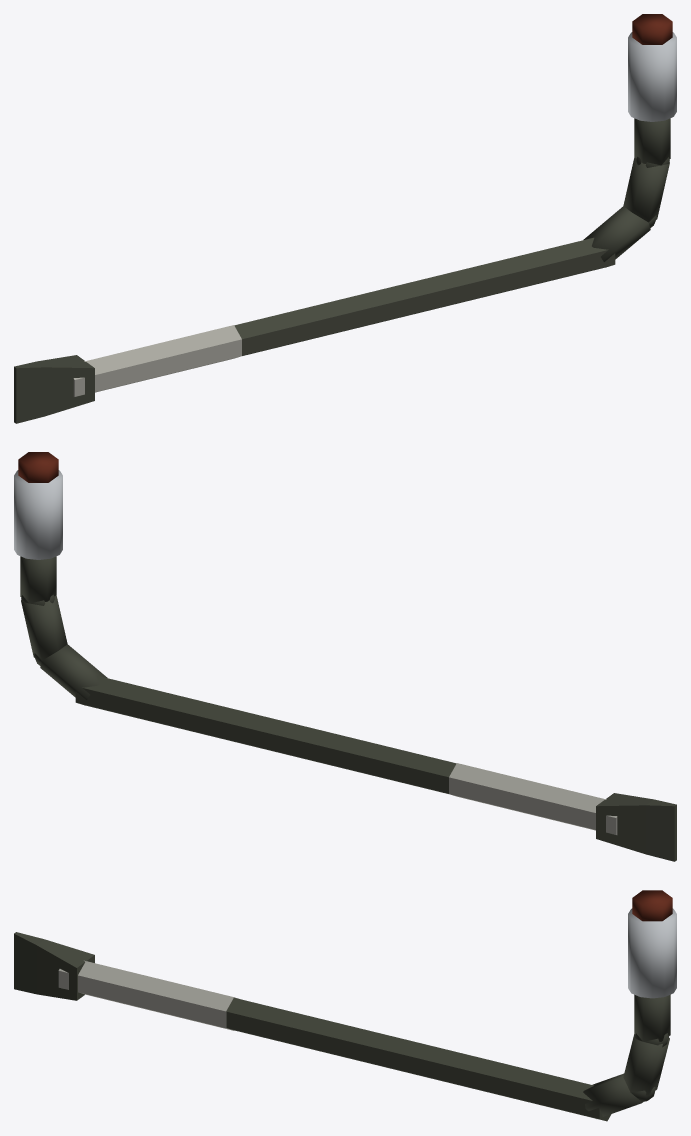
File: item_tire_iron.glb
3 views of the same model, one above another, from view 1: azimuth 30°, elevation 25°; view 2: azimuth 150°, elevation 25°; view 3: azimuth 330°, elevation 25° (orthographic).
Parts seen in each view (by area): view 1: bar, worn, pry, socket, bend_1, bend_0, bend_2, nut; view 2: bar, worn, pry, socket, bend_1, bend_0, bend_2, nut; view 3: bar, worn, socket, pry, bend_1, bend_2, bend_0, nut.
Boxes of the visible parts, x1,y1,x2,y2 form: bar: (234, 237, 615, 355); worn: (73, 325, 241, 396); pry: (14, 355, 94, 423); socket: (628, 32, 676, 121); bend_1: (623, 157, 669, 222); bend_0: (583, 206, 650, 267); bend_2: (634, 118, 670, 165); nut: (632, 14, 672, 44); bar: (75, 675, 456, 793); worn: (449, 763, 617, 834); pry: (596, 793, 676, 861); socket: (14, 470, 62, 559); bend_1: (21, 595, 67, 660); bend_0: (40, 644, 107, 705); bend_2: (20, 556, 56, 603); nut: (18, 452, 58, 482); bar: (226, 997, 611, 1121); worn: (58, 960, 237, 1030); socket: (628, 908, 676, 998); pry: (14, 932, 94, 1000); bend_1: (623, 1034, 669, 1095); bend_2: (634, 994, 670, 1041); bend_0: (583, 1073, 642, 1118); nut: (632, 890, 672, 921).
Size of the model in its own units: 0.5115 by 0.1827 by 0.033.
